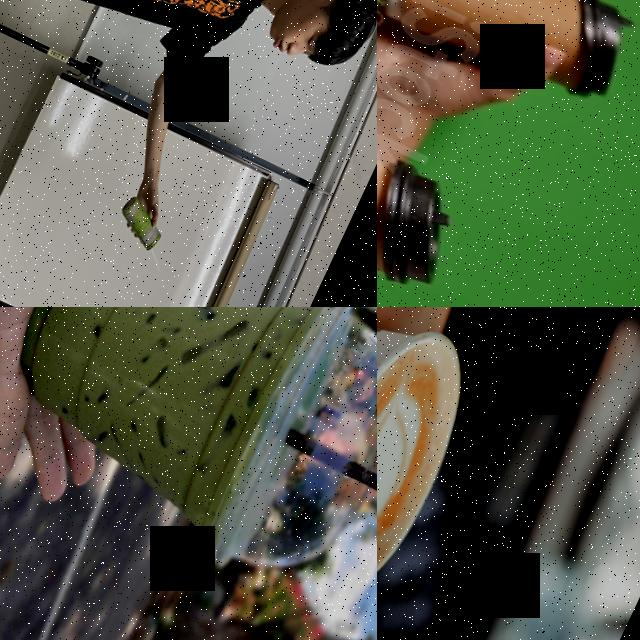can: (108, 193, 172, 254)
cup: (0, 307, 377, 611), (377, 307, 494, 618), (377, 0, 640, 116), (377, 81, 476, 302)
